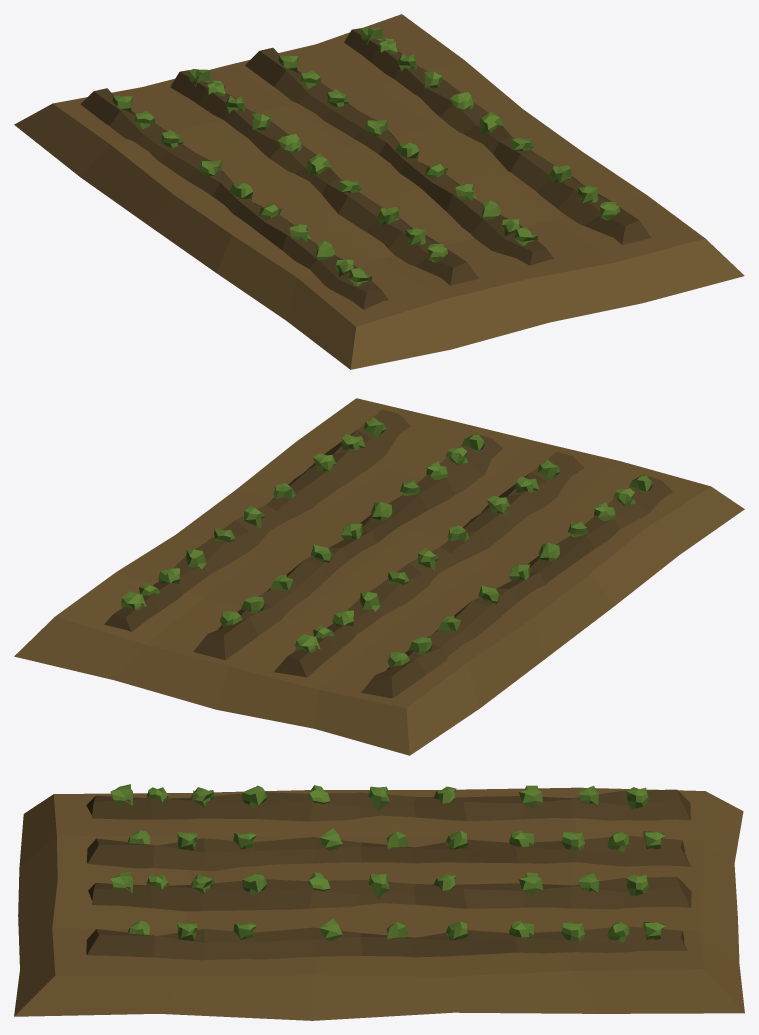
The model's file is gabbagefield.fbx.
3 views of the same model, one above another, from view 1: azimuth 30°, elevation 25°; view 2: azimuth 150°, elevation 25°; view 3: azimuth 270°, elevation 25° (orthographic). The views are drawn at different scales.
Visible parts, largest first — view 1: gabbagefield_LOD0; view 2: gabbagefield_LOD0; view 3: gabbagefield_LOD0.
Part boxes in pixels (x1=…): gabbagefield_LOD0: x1=14, y1=14, x2=744, y2=369; gabbagefield_LOD0: x1=14, y1=398, x2=744, y2=755; gabbagefield_LOD0: x1=14, y1=784, x2=744, y2=1020.
Size of what is drawn, in the model's own units: 19.55 by 2.68 by 29.17.
